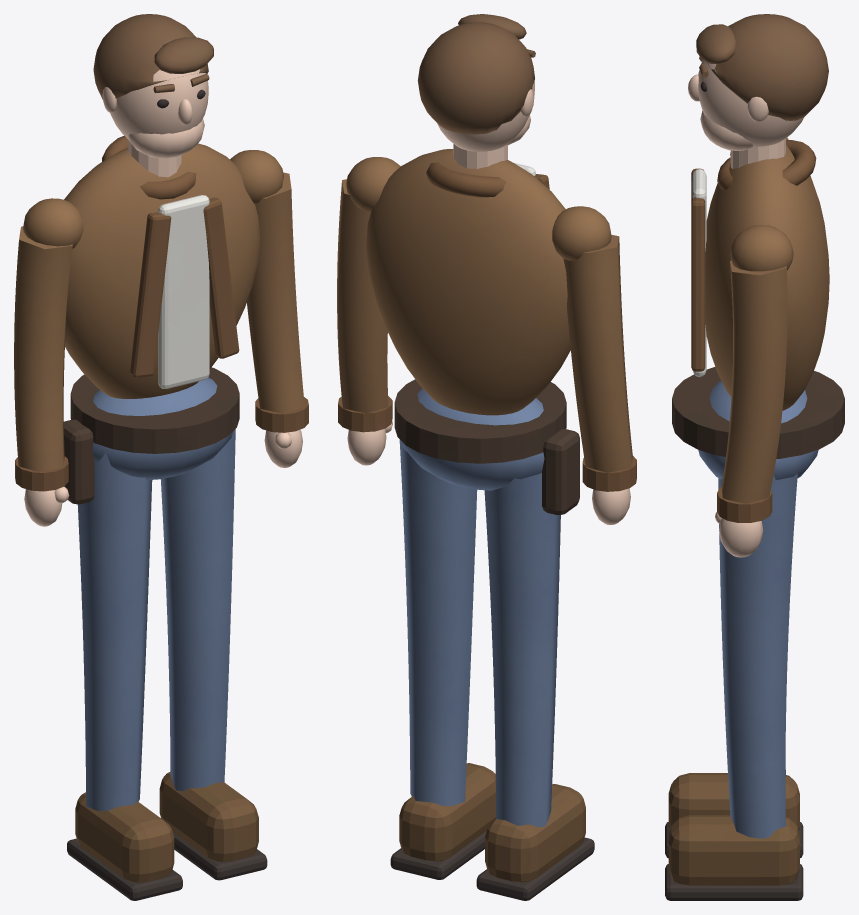
The model's file is runner.glb.
3 renders of one model, left to right at view 1: azimuth 30°, elevation 25°; view 2: azimuth 150°, elevation 25°; view 3: azimuth 270°, elevation 25°, orthographic. The views are drawn at different scales.
Parts seen in each view (by area): view 1: Body, LegR, LegL, ArmR, ArmL; view 2: Body, LegR, LegL, ArmR, ArmL; view 3: Body, LegL, ArmL, LegR.
Boxes of the visible parts, x1,y1,x2,y2 form: Body: (63,14,260,504); LegR: (67,453,182,900); LegL: (159,429,267,880); ArmR: (14,198,83,526); ArmL: (230,150,308,467); Body: (366,14,579,515); LegR: (476,473,594,900); LegL: (390,439,495,879); ArmR: (552,206,636,524); ArmL: (337,157,400,465); Body: (672,14,844,479); LegL: (665,473,803,900); ArmL: (715,225,793,557); LegR: (665,770,803,858).
Bounding box in the file's own units: 0.488 × 1.36 × 0.26.
Materials: 1 (1 with a texture image).
